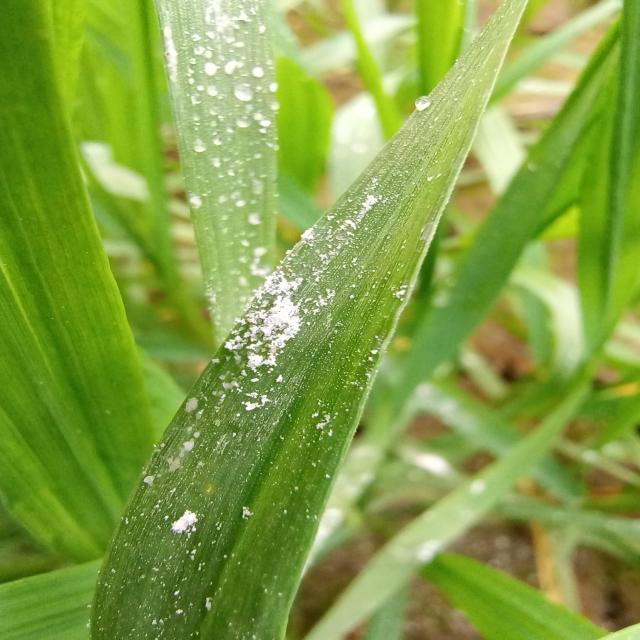Powdery_Mildew: (144, 0, 340, 577)
